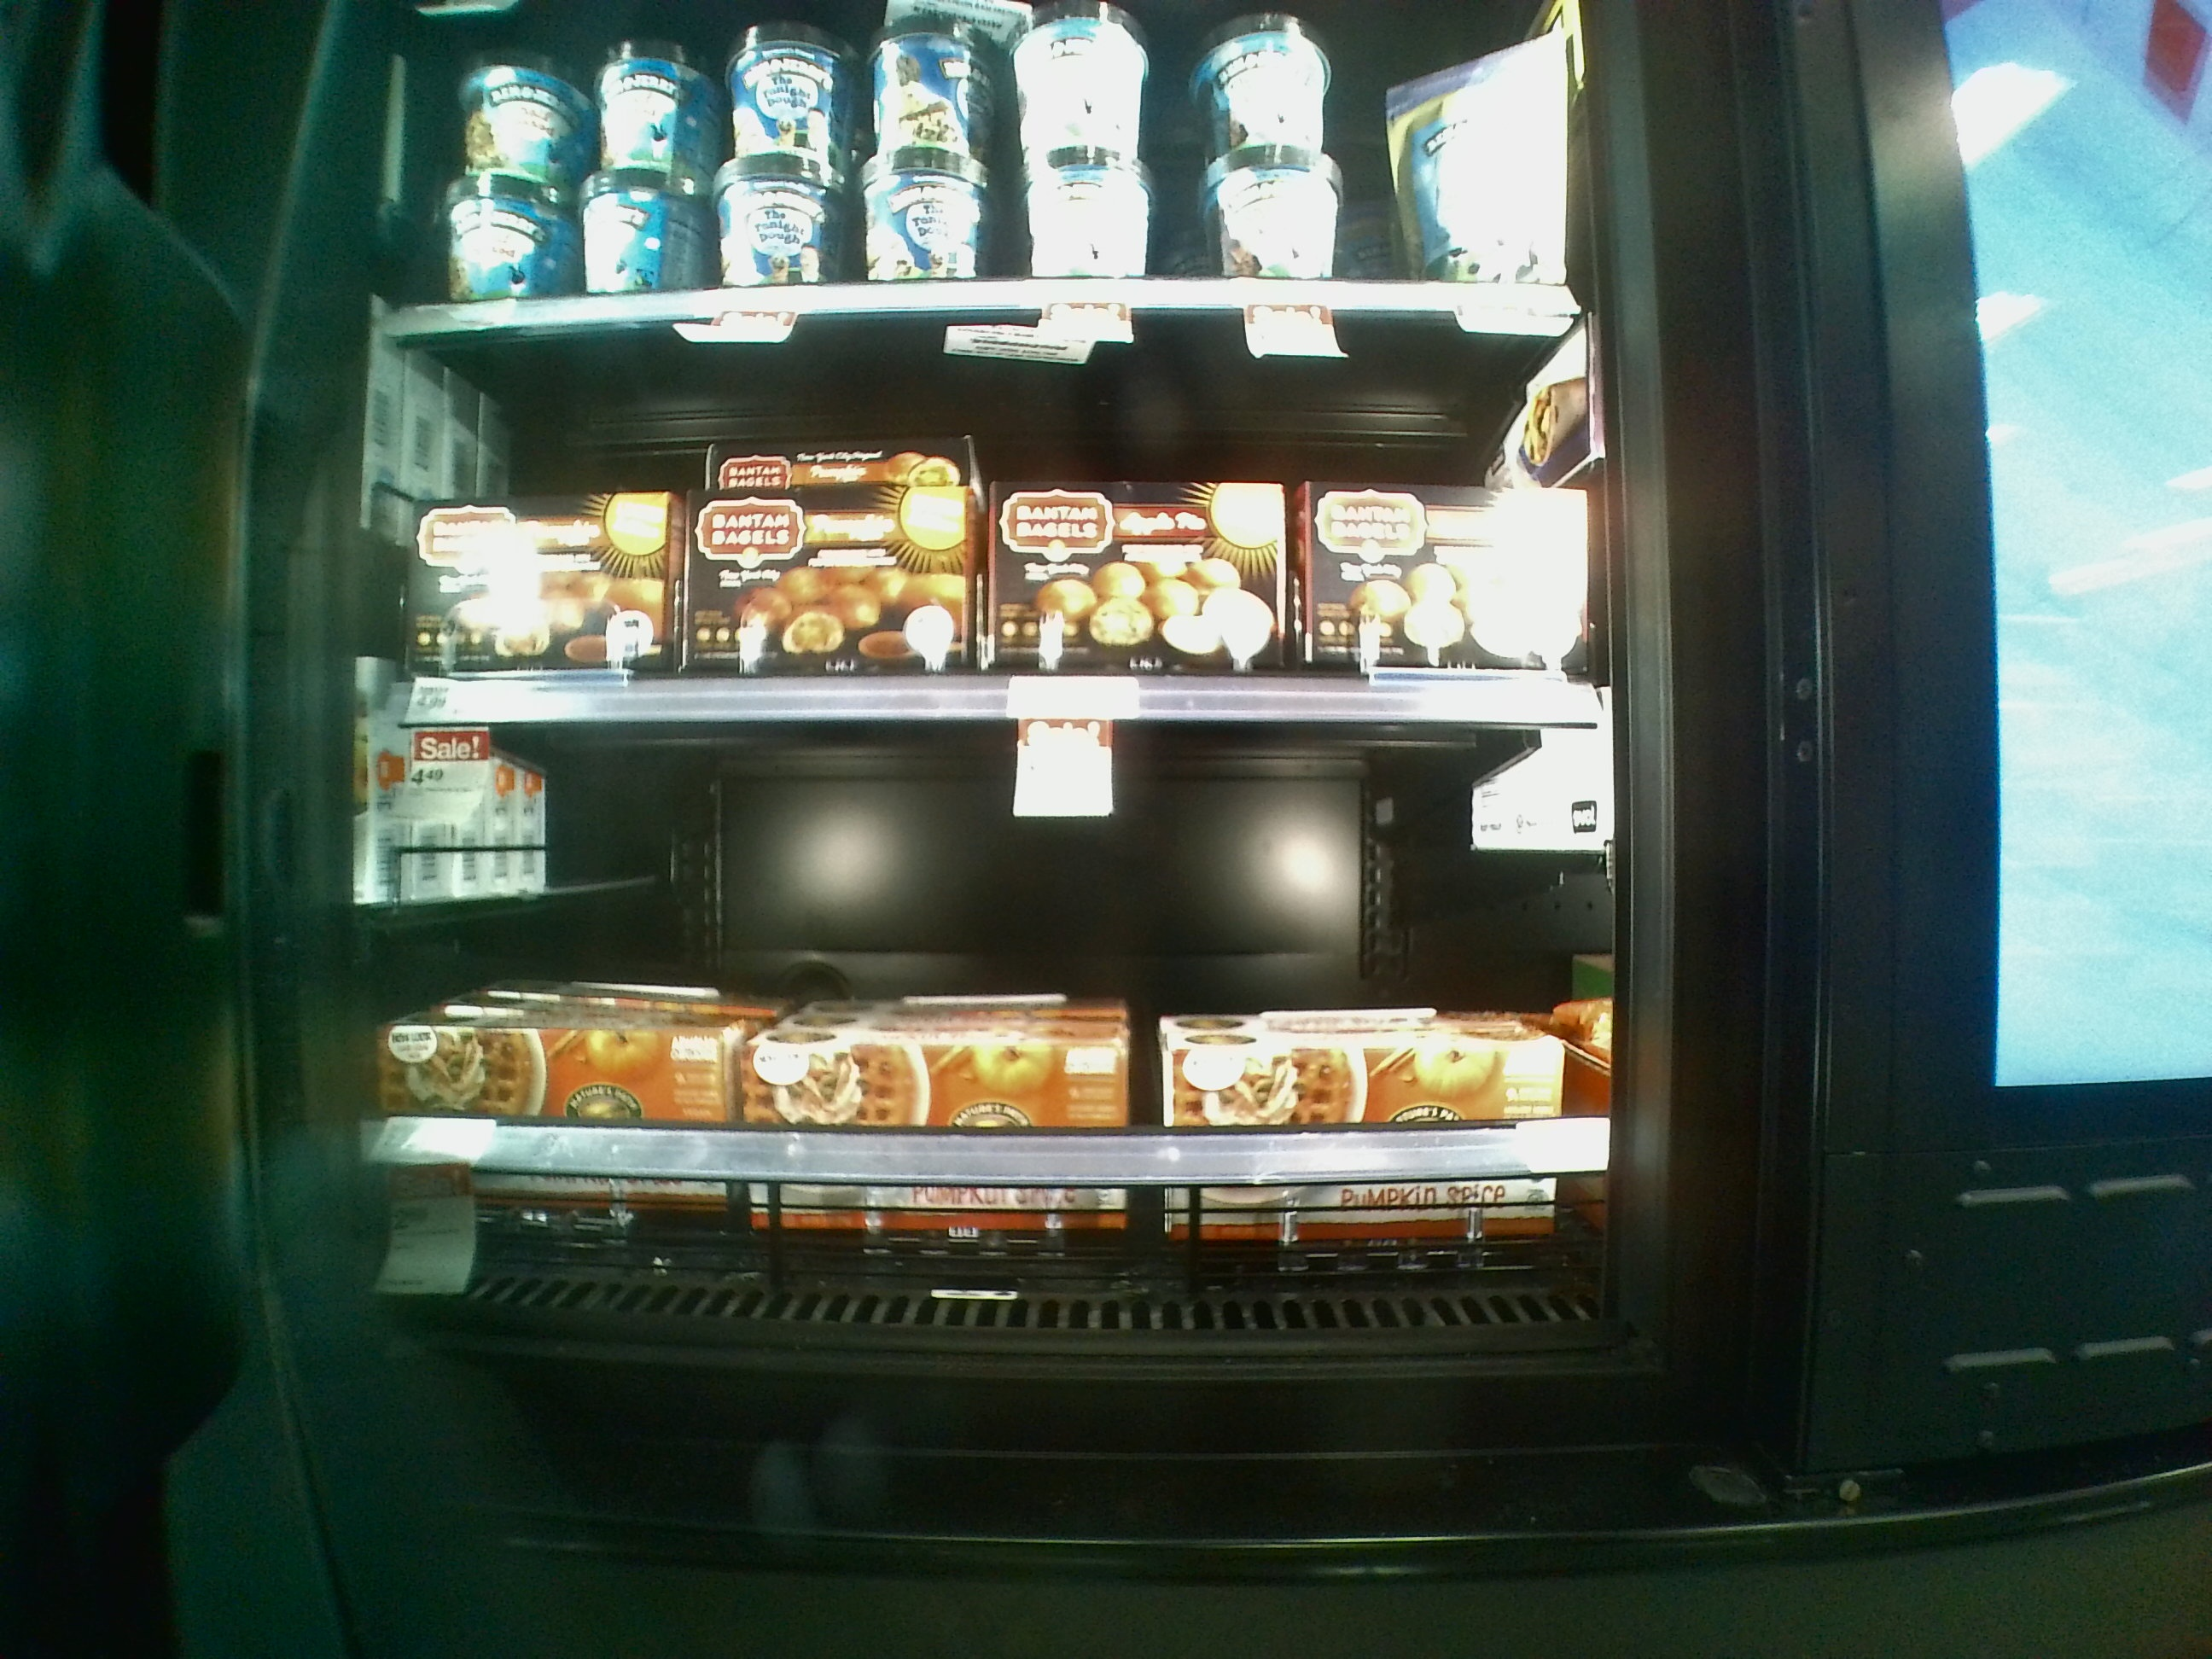shelf: (327, 721, 1630, 1337), (338, 336, 1620, 732)
